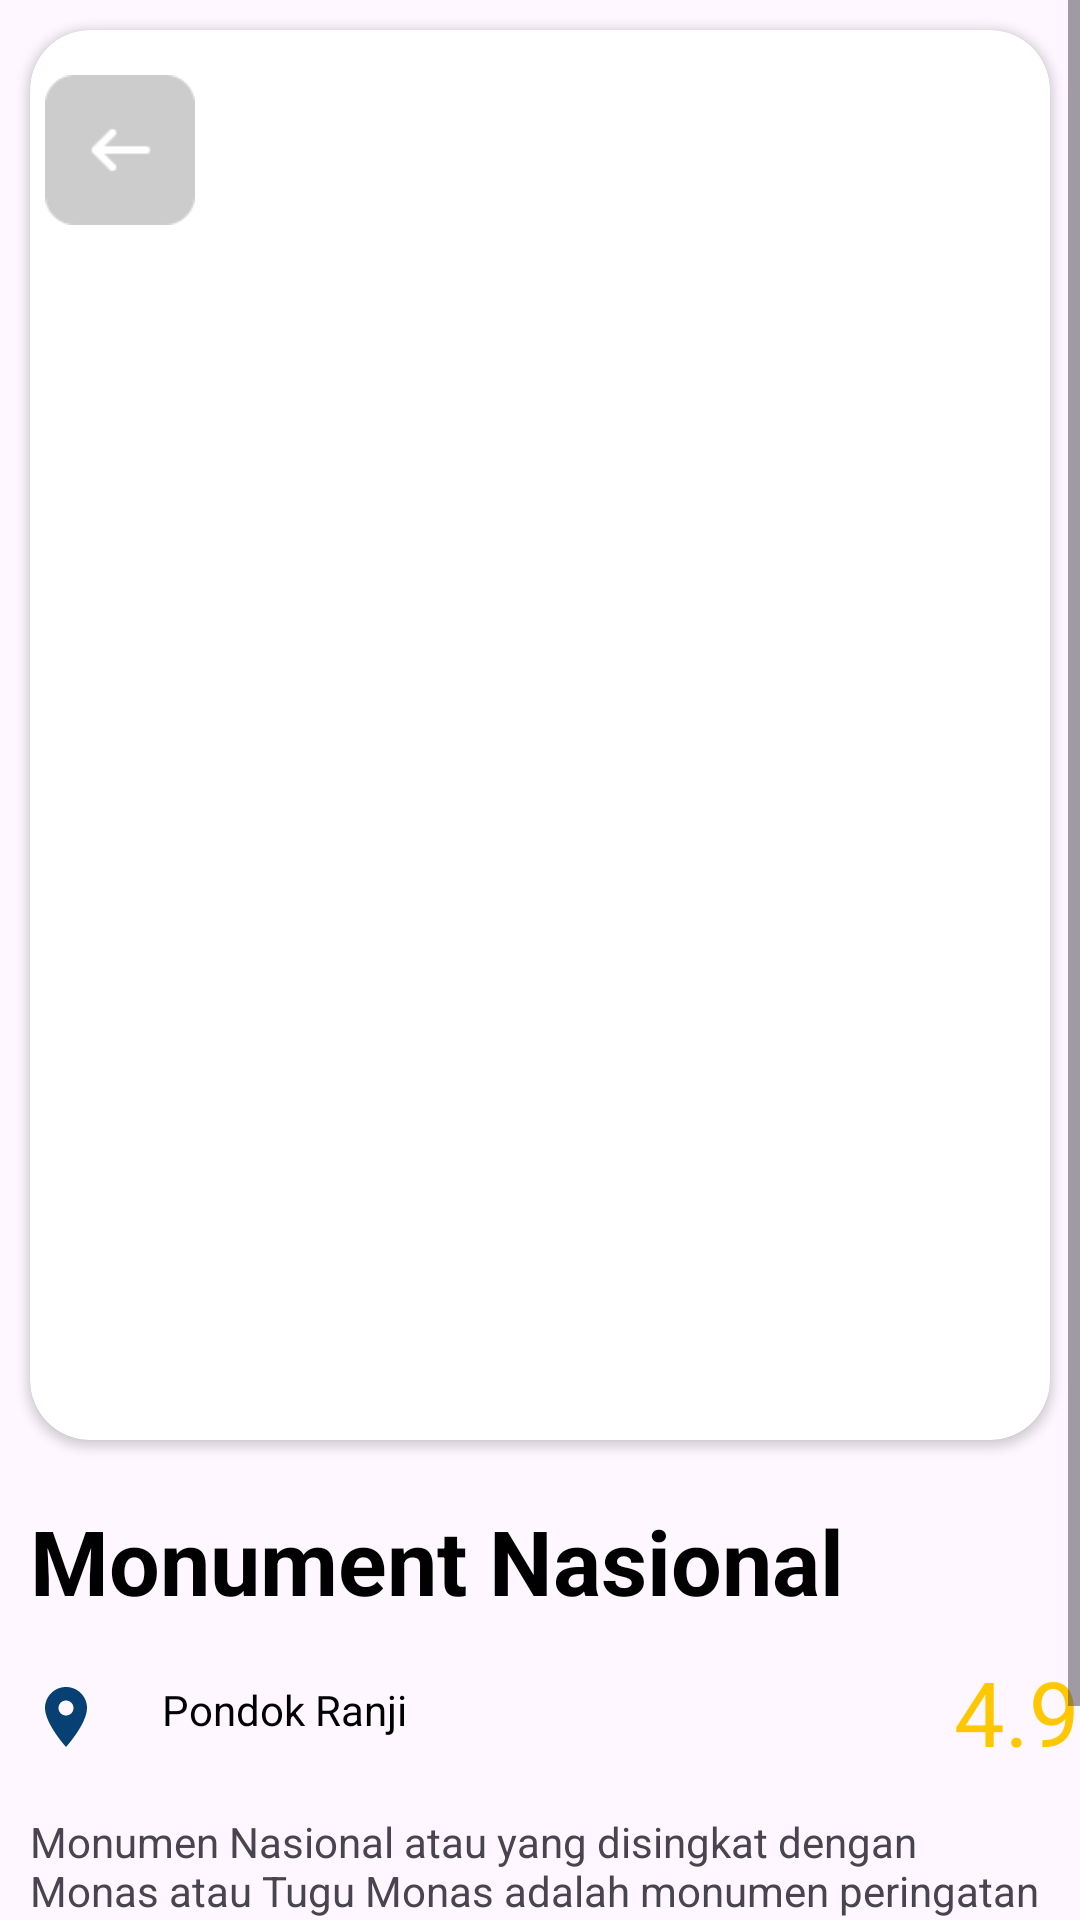

Screen size 1080*1920. Icon name, then its center in pixels as (x=x, y=y):
location on: (x=66, y=1717)
